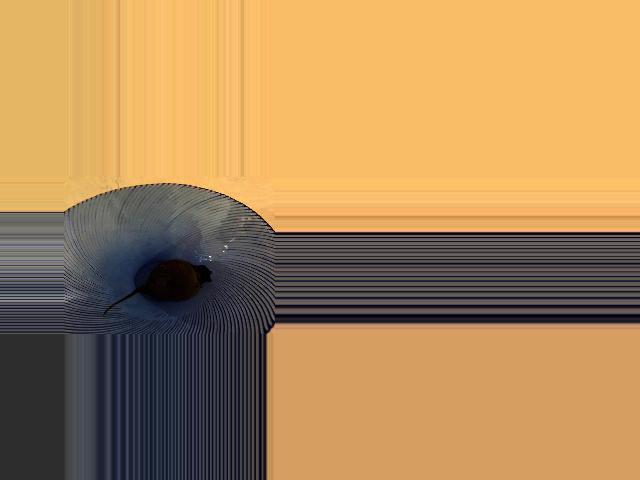beet: (103, 260, 211, 316)
